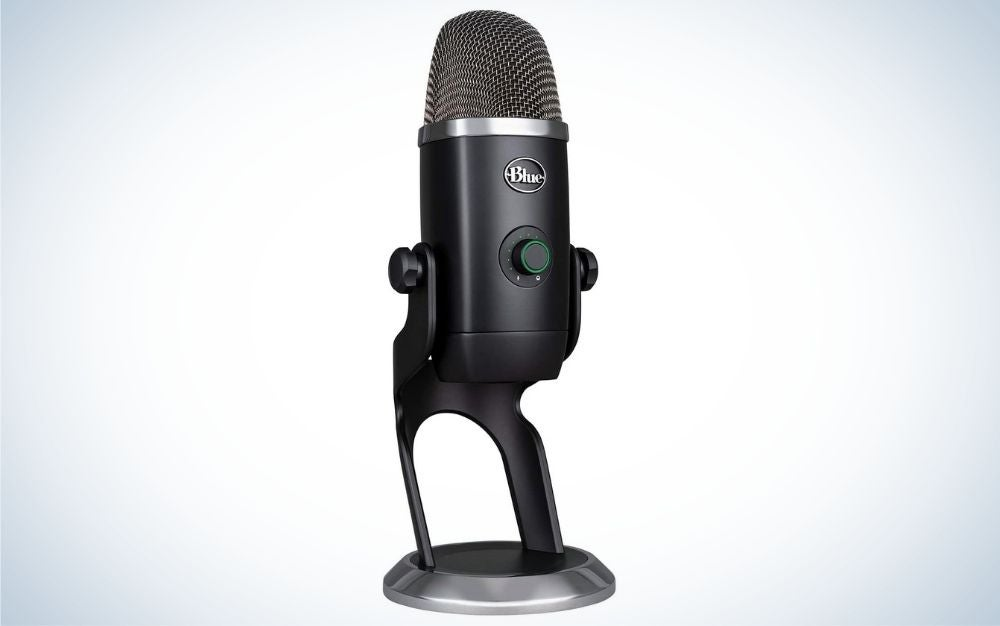microphone: (377, 5, 621, 626)
